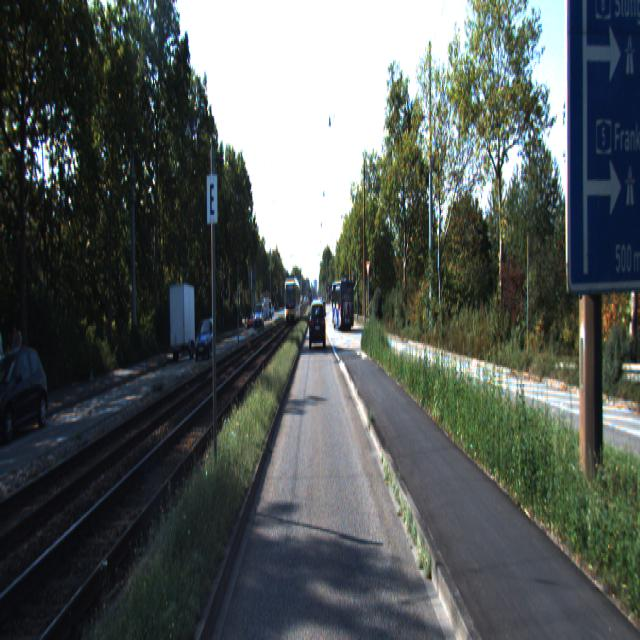Car: (0, 345, 52, 449), (168, 286, 195, 364), (332, 278, 354, 330), (194, 318, 217, 363), (309, 301, 325, 348)
